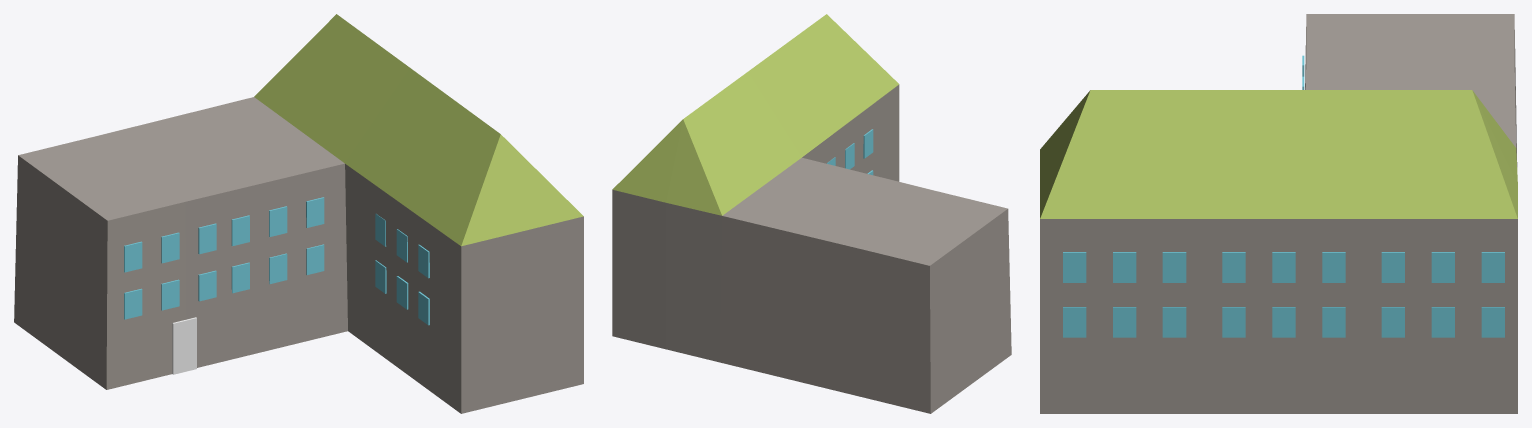
The model's file is Building_Corner.fbx.
3 renders of one model, left to right at view 1: azimuth 30°, elevation 25°; view 2: azimuth 150°, elevation 25°; view 3: azimuth 270°, elevation 25°, orthographic. The views are drawn at different scales.
Parts seen in each view (by area): view 1: Cube.010, Cube.011, Cube.013, Cube.012; view 2: Cube.010, Cube.013; view 3: Cube.010, Cube.014.
Boxes of the visible parts, <box> form: Cube.010: <box>14,14,583,413</box>; Cube.011: <box>124,197,324,319</box>; Cube.013: <box>375,213,429,325</box>; Cube.012: <box>172,317,196,374</box>; Cube.010: <box>612,14,1011,413</box>; Cube.013: <box>827,129,873,175</box>; Cube.010: <box>1040,14,1517,413</box>; Cube.014: <box>1063,252,1504,337</box>.
Bounding box in the file's own units: 262 × 171 × 256.
